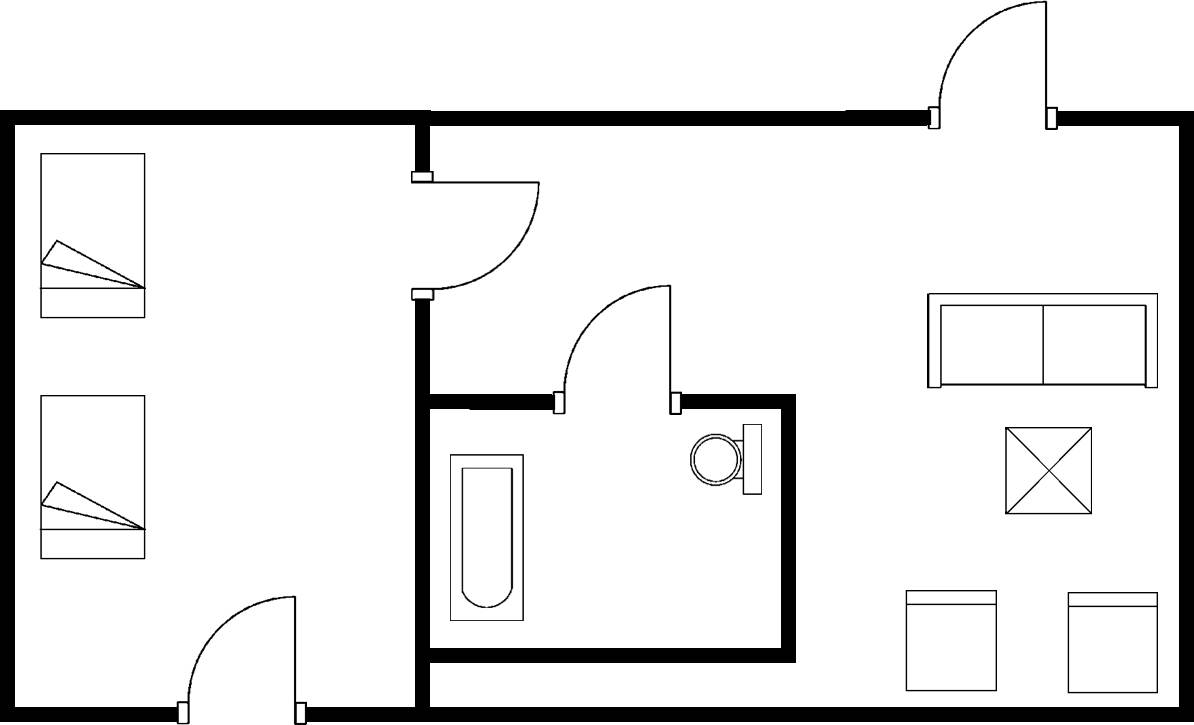bed: (34, 143, 152, 330), (34, 389, 153, 568)
coffee_table: (995, 417, 1101, 522)
large_sink: (679, 418, 768, 502)
large_sofa: (917, 283, 1165, 400)
small_sofa: (1056, 584, 1164, 698), (897, 583, 1004, 698)
tub: (444, 448, 534, 630)
